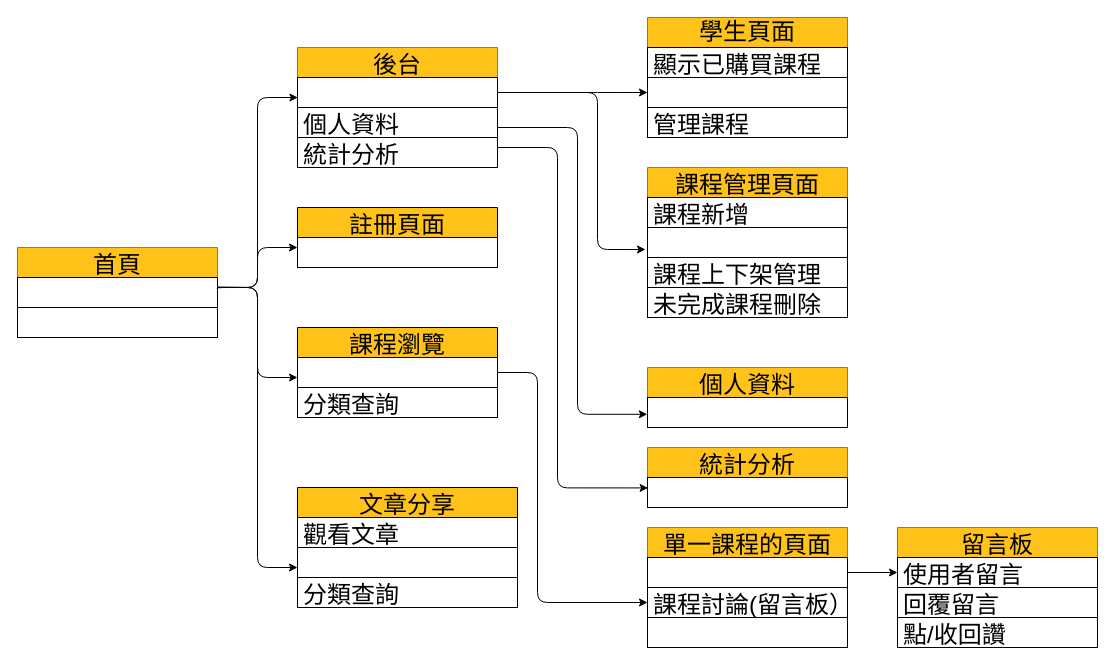
Some shapes in this 1115 by 665 pixel diagram are drawn without their labels. Each missing label, with the centre of its shape:
"個人資料修改" belongs at point 747,412.
"加入購物車" belongs at point 747,632.
"年度熱門課程" belongs at point 117,292.
"所有課程" belongs at point 397,372.
"播放課程" belongs at point 747,92.
"新增/編輯/刪除文章" belongs at point 407,562.
"產出報表" belongs at point 747,492.
"當月熱門課程" belongs at point 117,322.
"註冊" belongs at point 397,252.
"課程修改" belongs at point 747,242.
"課程管理" belongs at point 397,92.
"顯示課程資訊" belongs at point 747,572.
